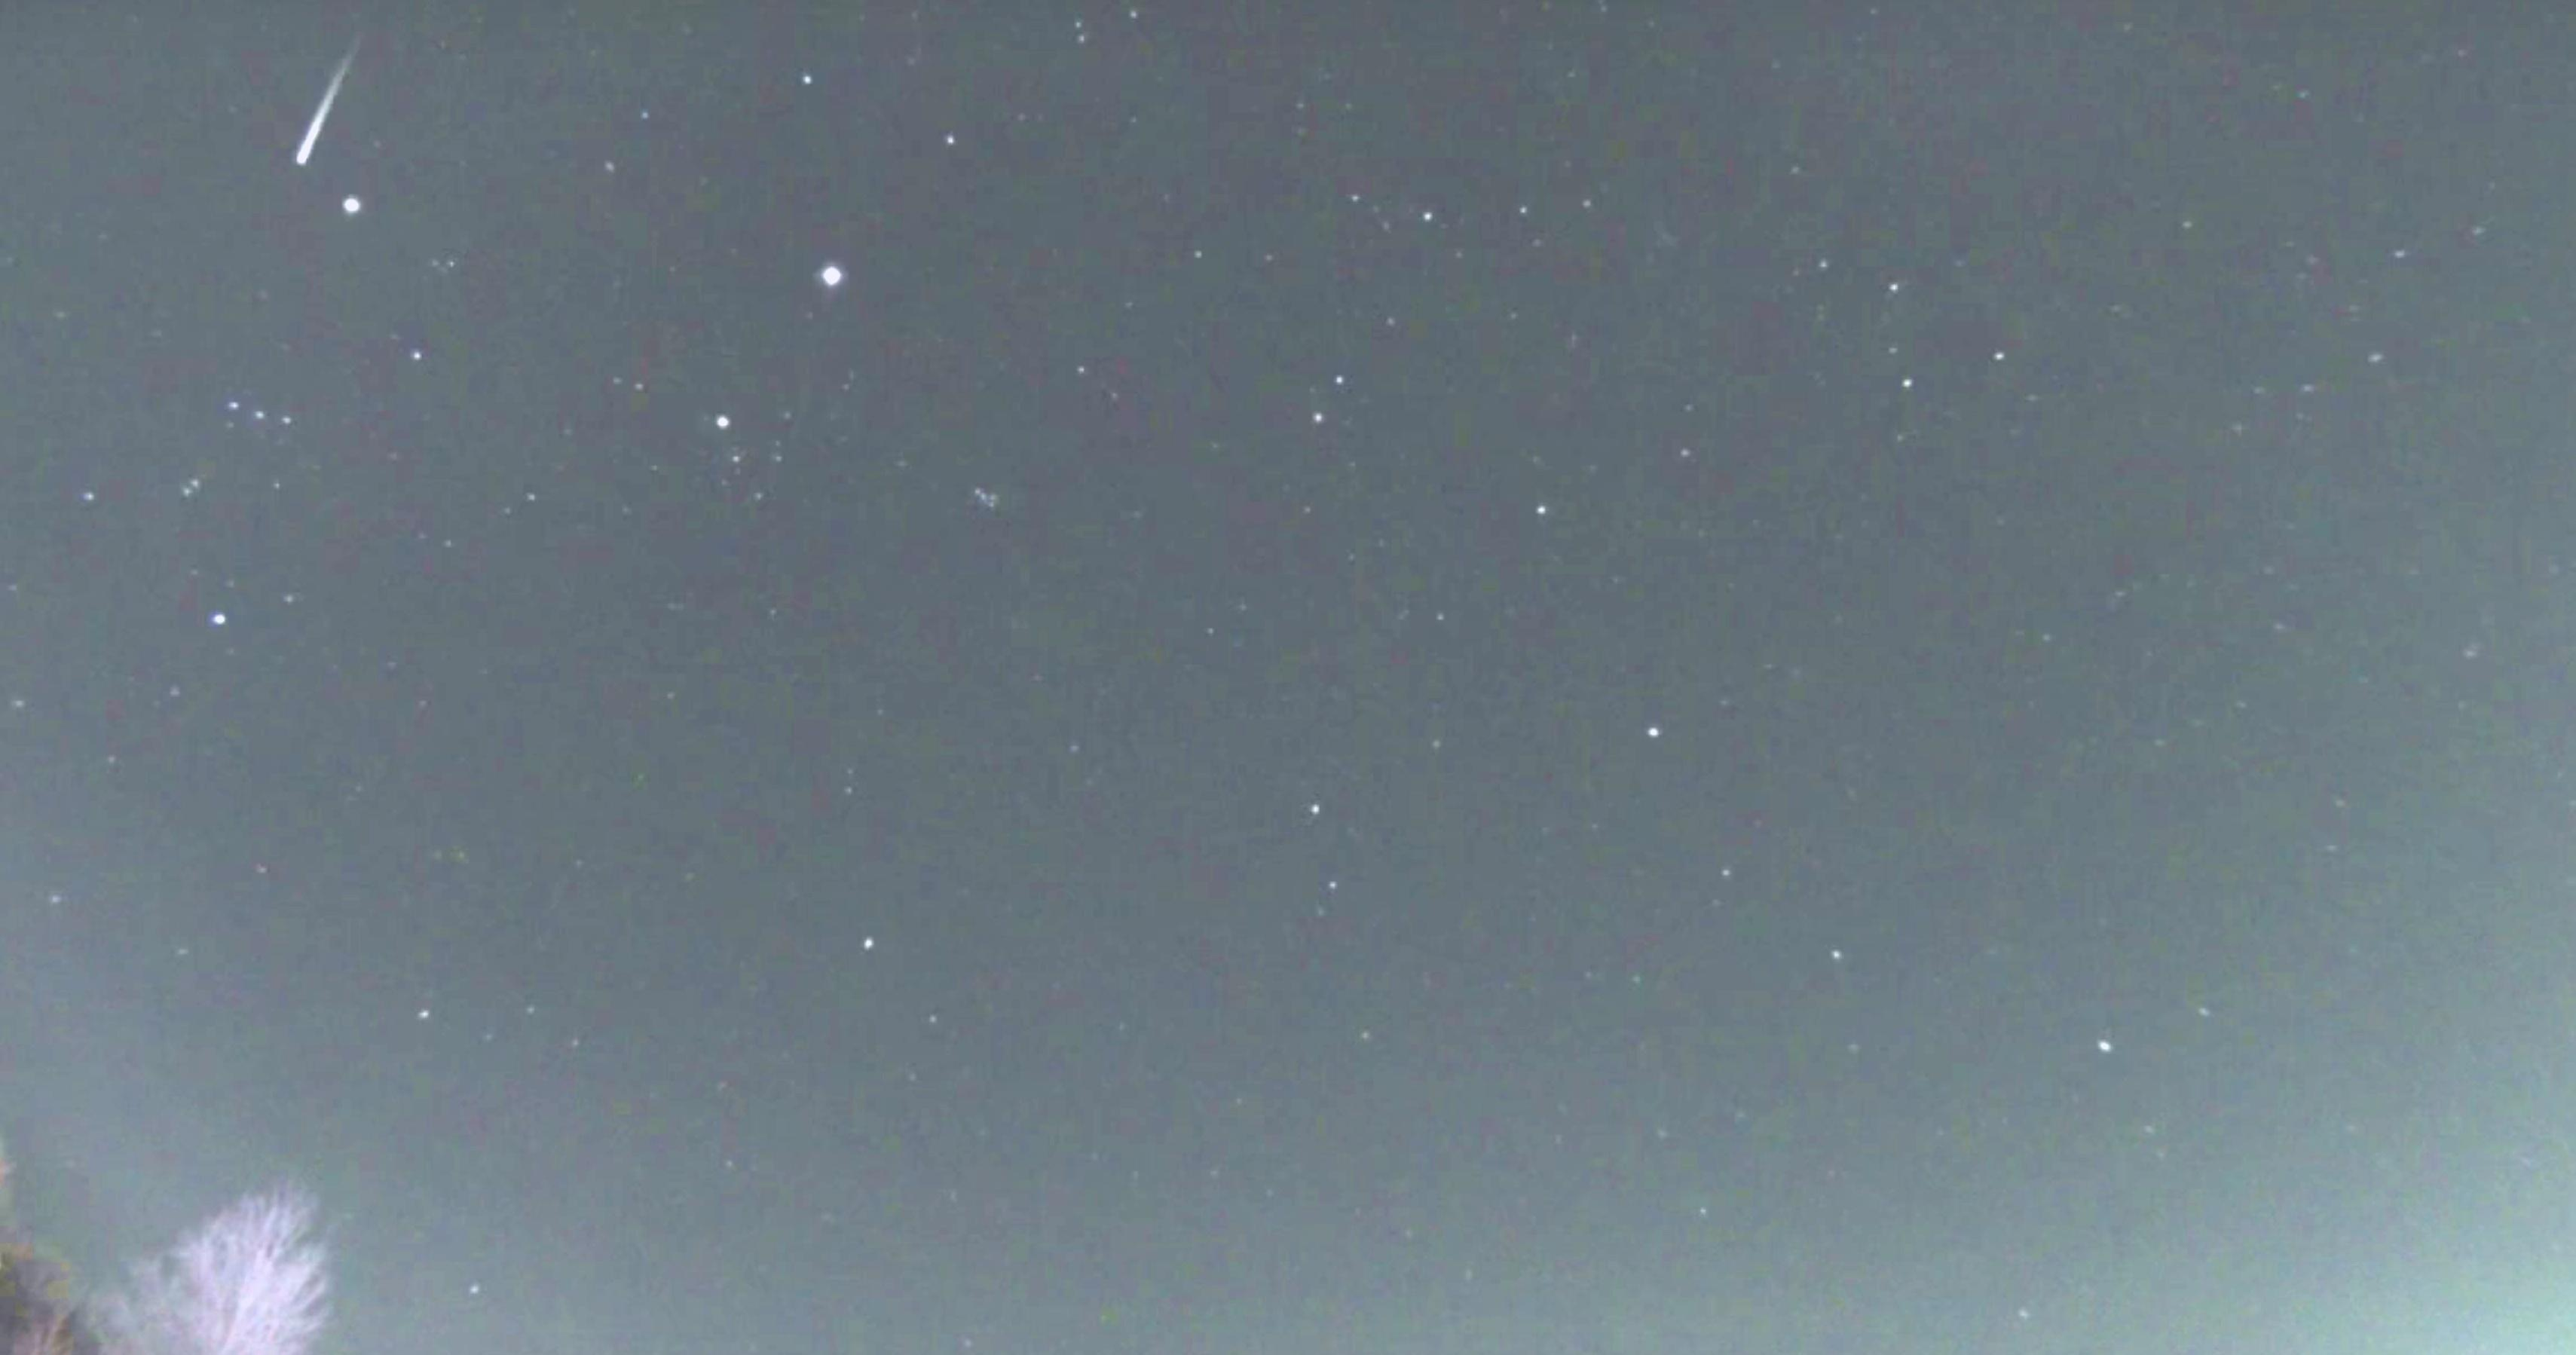meteorite: (257, 12, 392, 205)
